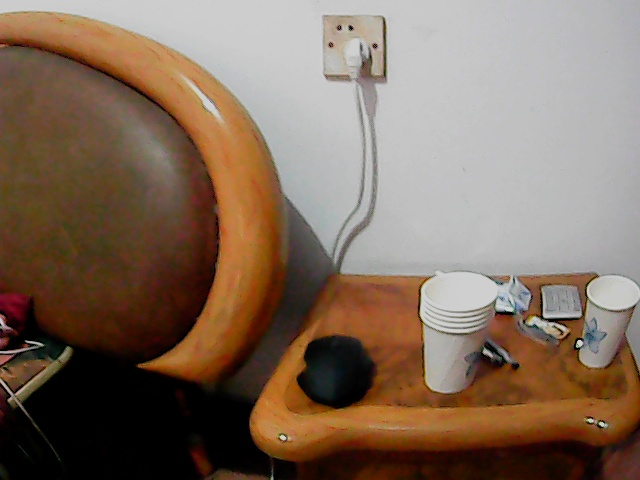cup: (417, 266, 495, 394)
mouse: (293, 331, 378, 404)
